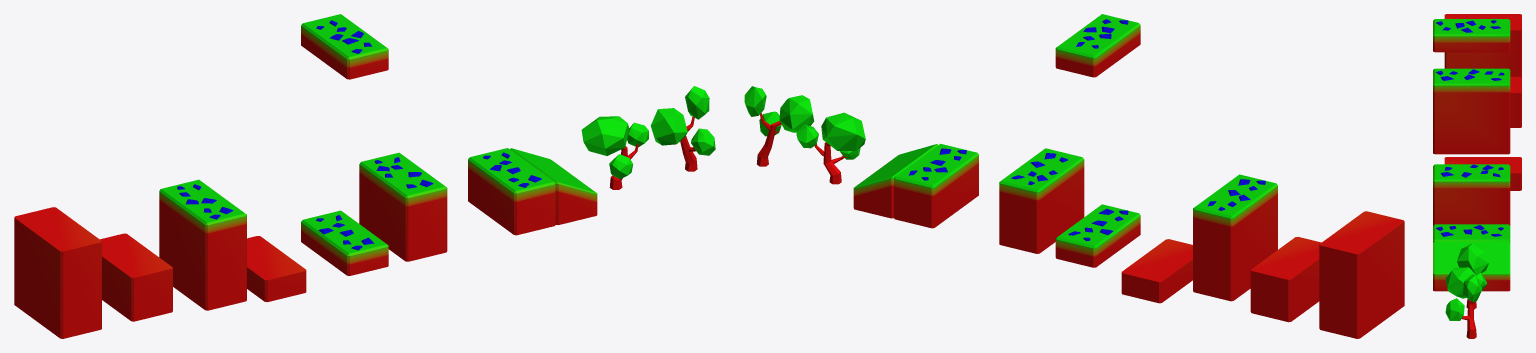
File: tileset.glb
3 renders of one model, left to right at view 1: azimuth 30°, elevation 25°; view 2: azimuth 150°, elevation 25°; view 3: azimuth 270°, elevation 25°, orthographic. The views are drawn at different scales.
Visible parts, largest first — view 1: Cube.008, Cube.005, Cube.004, Cube, Cube.007, Cube.003, Cube.002, Cube.006, Cylinder.001, Cylinder, Cube.001; view 2: Cube.008, Cube.005, Cube.004, Cube, Cube.007, Cube.003, Cube.002, Cube.006, Cylinder, Cylinder.001, Cube.001; view 3: Cube.005, Cube.004, Cube.002, Cube.001, Cube.008, Cylinder.001, Cube, Cube.006, Cylinder, Cube.007.
Boxes of the visible parts, x1,y1,x2,y2 form: Cube.008: [14, 207, 101, 338]; Cube.005: [159, 179, 246, 310]; Cube.004: [359, 152, 447, 261]; Cube: [468, 148, 555, 235]; Cube.007: [100, 233, 172, 321]; Cube.003: [301, 210, 388, 275]; Cube.002: [301, 14, 388, 79]; Cube.006: [247, 236, 306, 302]; Cylinder.001: [650, 86, 715, 171]; Cylinder: [581, 116, 648, 189]; Cube.001: [510, 148, 597, 224]; Cube.008: [1319, 211, 1404, 338]; Cube.005: [1193, 174, 1277, 301]; Cube.004: [999, 148, 1084, 253]; Cube: [894, 143, 978, 228]; Cube.007: [1250, 237, 1321, 322]; Cube.003: [1055, 204, 1140, 267]; Cube.002: [1055, 14, 1140, 77]; Cube.006: [1121, 239, 1192, 303]; Cylinder: [796, 112, 865, 184]; Cylinder.001: [744, 86, 814, 166]; Cube.001: [853, 144, 937, 218]; Cube.005: [1433, 68, 1510, 154]; Cube.004: [1433, 164, 1510, 225]; Cube.002: [1433, 19, 1510, 52]; Cube.001: [1433, 241, 1510, 291]; Cube.008: [1444, 14, 1521, 77]; Cylinder.001: [1445, 267, 1481, 338]; Cube: [1433, 224, 1510, 242]; Cube.006: [1444, 157, 1521, 190]; Cylinder: [1446, 243, 1488, 309]; Cube.007: [1510, 76, 1521, 127].
Size of the model in its own units: 159 by 53.29 by 23.
